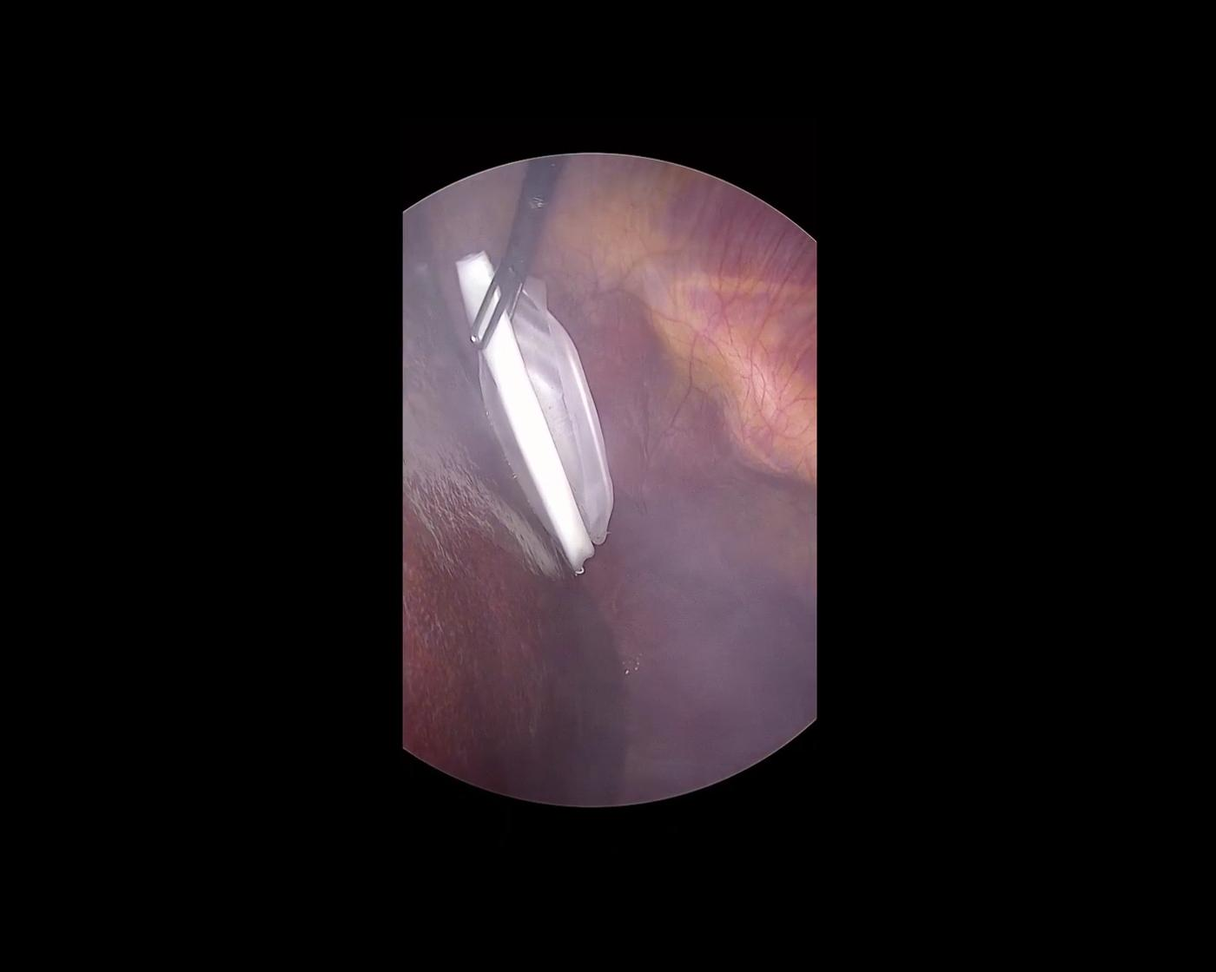Bag: (439, 233, 632, 588)
Forceps: (463, 142, 568, 358)
Liver: (392, 191, 628, 810)
